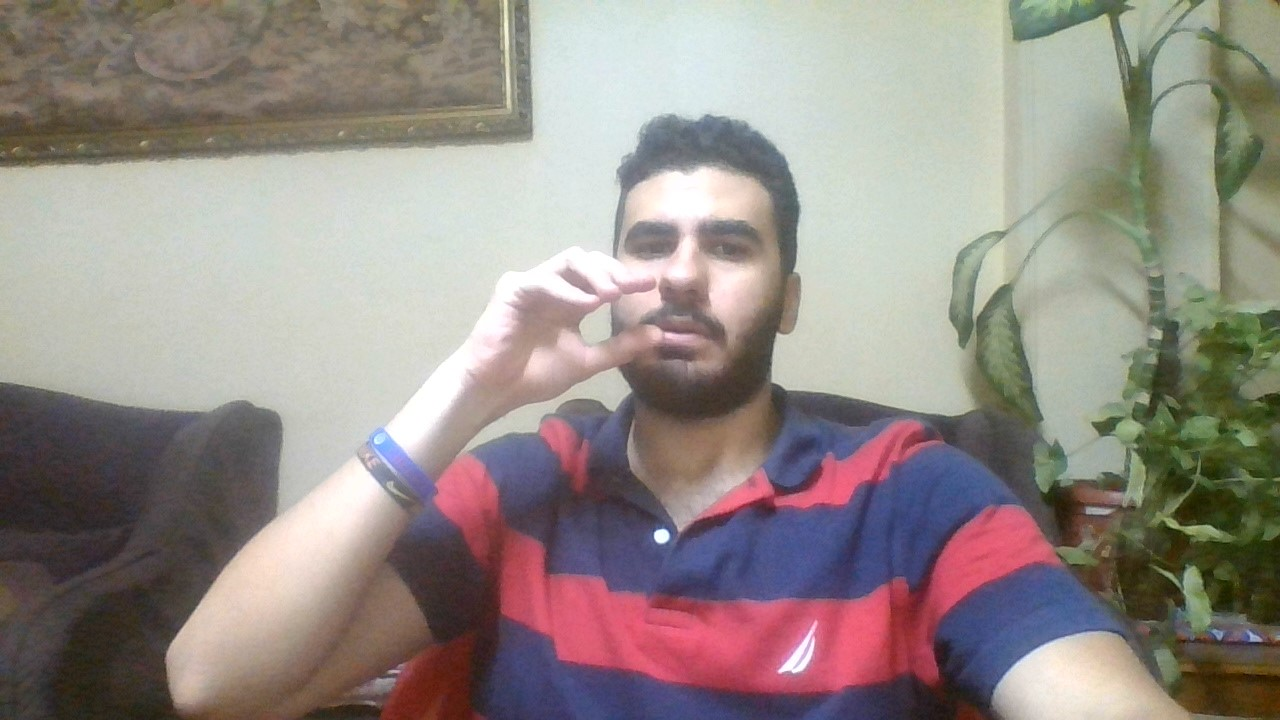drink: (452, 241, 666, 402)
